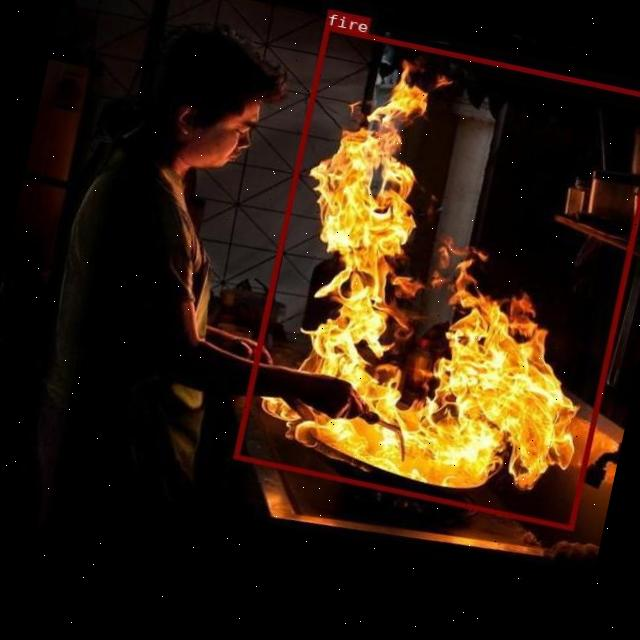fire: (231, 23, 640, 528)
